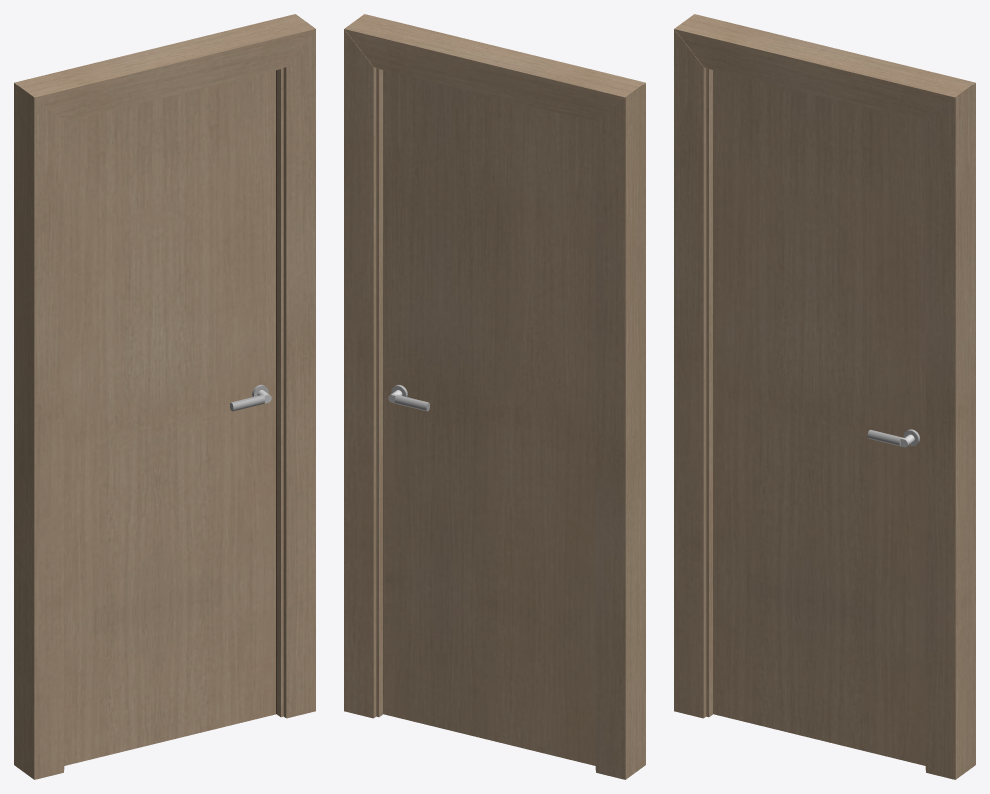
Rendered from EE-PCI-04_1_G2BH.gltf.
The picture shows the model from 3 angles, left to right: view 1: azimuth 30°, elevation 25°; view 2: azimuth 150°, elevation 25°; view 3: azimuth 330°, elevation 25°; orthographic projection.
Parts seen in each view (by area): view 1: Mesh2_Agrupar_2_Model, Mesh2_Agrupar_2_Model001, Mesh2_Agrupar_2_Model006; view 2: Mesh2_Agrupar_2_Model, Mesh2_Agrupar_2_Model001, Mesh2_Agrupar_2_Model006; view 3: Mesh2_Agrupar_2_Model, Mesh2_Agrupar_2_Model001, Mesh2_Agrupar_2_Model006.
Part boxes in pixels (x1=…): Mesh2_Agrupar_2_Model: x1=64, y1=70, x2=275, y2=765; Mesh2_Agrupar_2_Model001: x1=14, y1=14, x2=315, y2=779; Mesh2_Agrupar_2_Model006: x1=276, y1=70, x2=276, y2=713; Mesh2_Agrupar_2_Model: x1=384, y1=70, x2=595, y2=765; Mesh2_Agrupar_2_Model001: x1=344, y1=14, x2=645, y2=779; Mesh2_Agrupar_2_Model006: x1=383, y1=70, x2=383, y2=713; Mesh2_Agrupar_2_Model: x1=714, y1=70, x2=925, y2=765; Mesh2_Agrupar_2_Model001: x1=674, y1=14, x2=975, y2=779; Mesh2_Agrupar_2_Model006: x1=713, y1=70, x2=713, y2=713.
Bounding box in the file's own units: 1.9 × 4.4 × 0.3.
7 materials, 2 textured.
